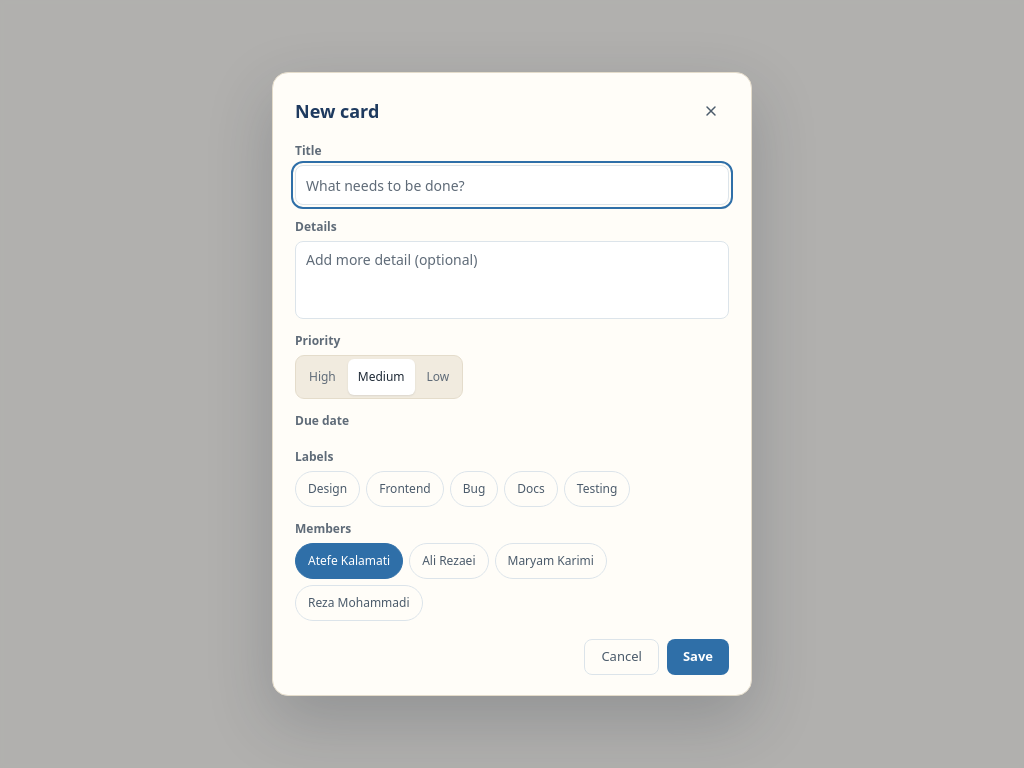
Test: CardDialog › requires a title
Click the button "Save" at [698, 657], box left=667, top=639, right=729, bottom=675
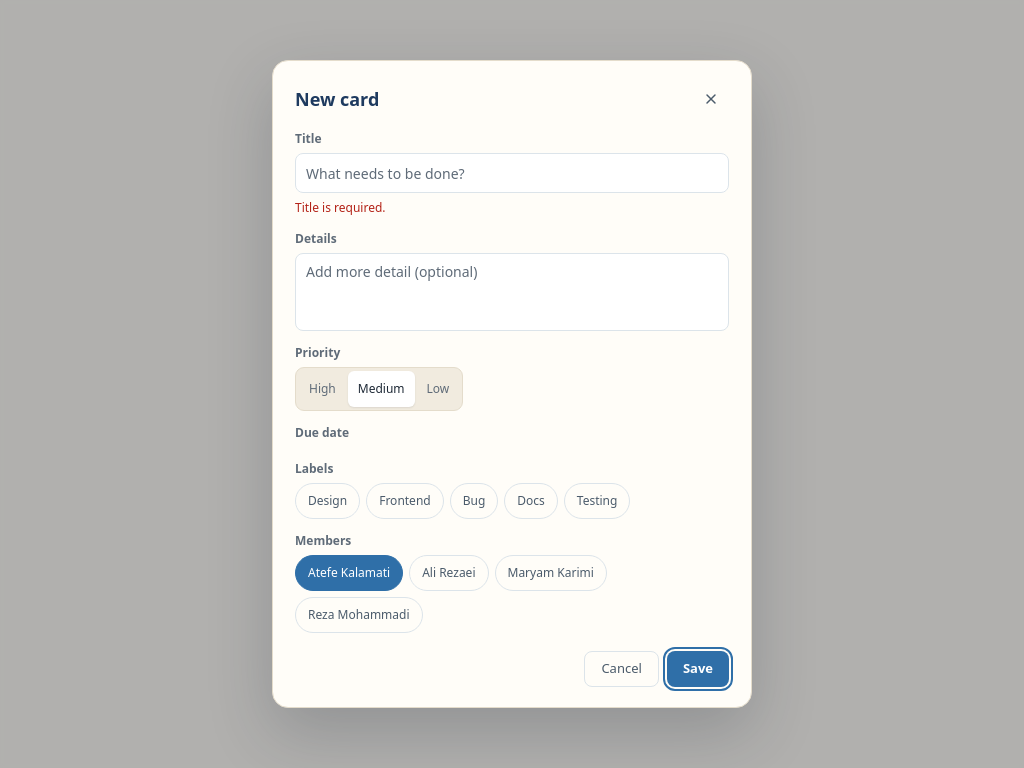
Expected: the message reads "Title is required.", left=295, top=199, right=386, bottom=216
